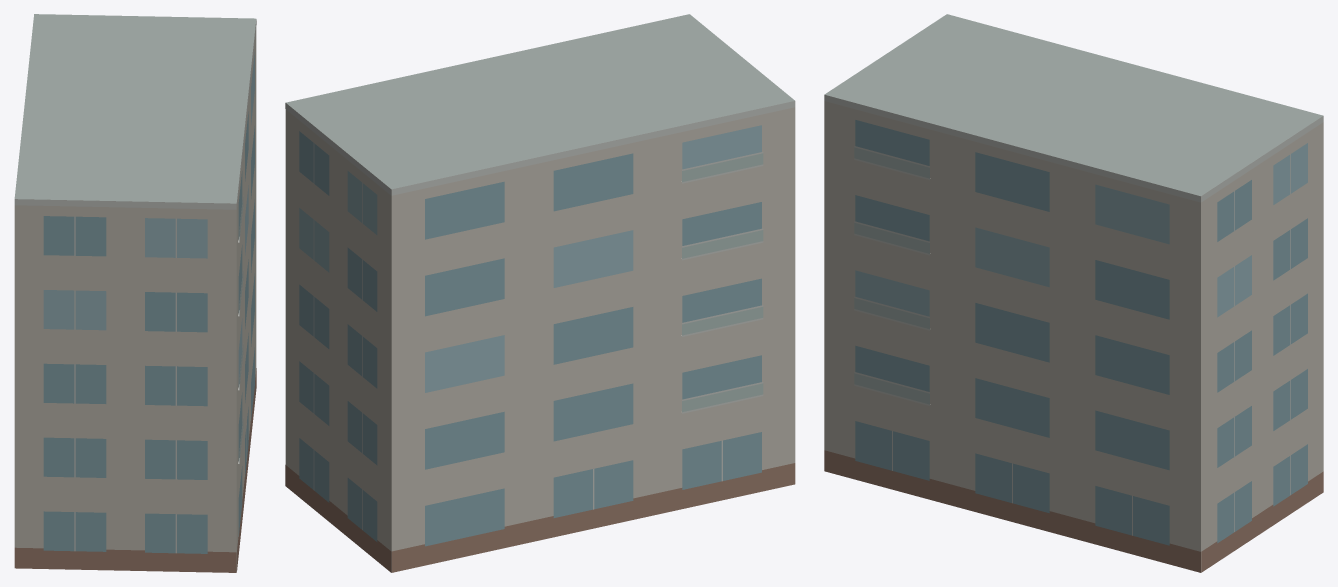
The model's file is survey-upis-32881276.glb.
The picture shows the model from 3 angles, left to right: view 1: azimuth 30°, elevation 25°; view 2: azimuth 150°, elevation 25°; view 3: azimuth 270°, elevation 25°; orthographic projection. The views are drawn at different scales.
Parts seen in each view (by area): view 1: survey-upis-32881276.tmp; view 2: survey-upis-32881276.tmp; view 3: survey-upis-32881276.tmp.
Part boxes in pixels (x1,y1,x2,y2): survey-upis-32881276.tmp: (14, 14, 256, 572); survey-upis-32881276.tmp: (285, 14, 795, 572); survey-upis-32881276.tmp: (824, 14, 1323, 572).
Bounding box in the file's own units: 15.17 × 14.6 × 17.56.
